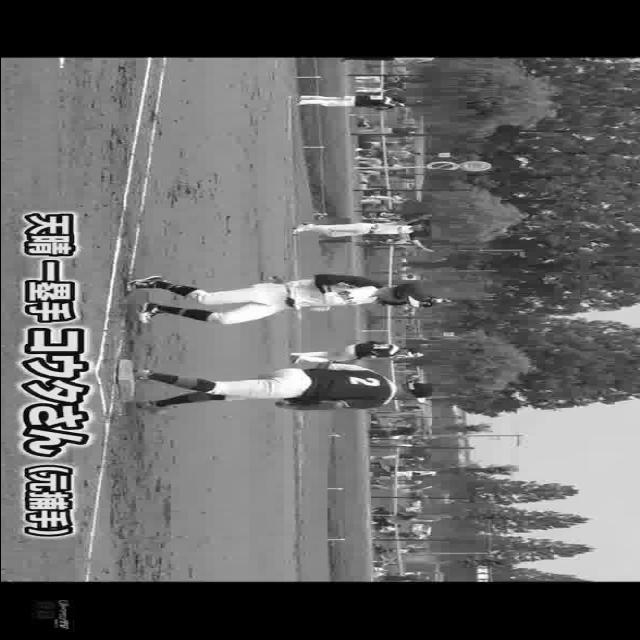base: (112, 359, 132, 401)
shoe: (124, 275, 166, 295), (137, 299, 163, 326), (129, 400, 165, 418), (128, 368, 154, 386)
